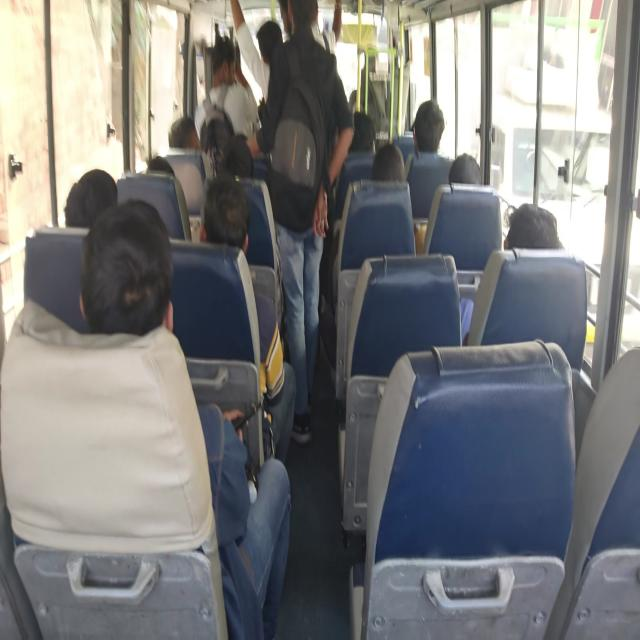person: (78, 197, 292, 638), (246, 0, 355, 444), (199, 174, 297, 464), (459, 202, 564, 345), (194, 34, 260, 150), (370, 141, 425, 254), (404, 99, 453, 219), (229, 0, 283, 104), (64, 168, 118, 228), (503, 202, 564, 250), (411, 100, 445, 154), (371, 142, 405, 182), (348, 110, 376, 154), (448, 152, 482, 185), (168, 115, 200, 150)
